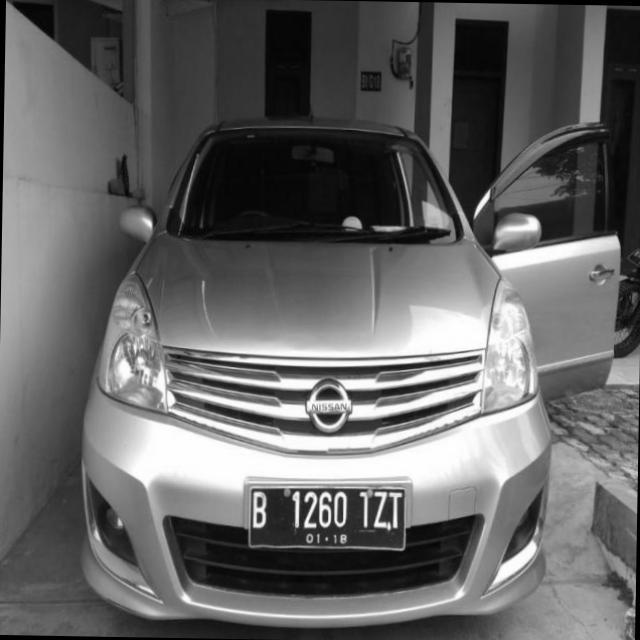0: (334, 490, 349, 526)
1: (288, 494, 304, 534)
2: (303, 493, 318, 528)
6: (316, 493, 332, 528)
B: (246, 488, 272, 532)
Plate: (249, 485, 404, 546)
T: (387, 491, 405, 535), (356, 491, 374, 529)
Z: (372, 486, 390, 526)
